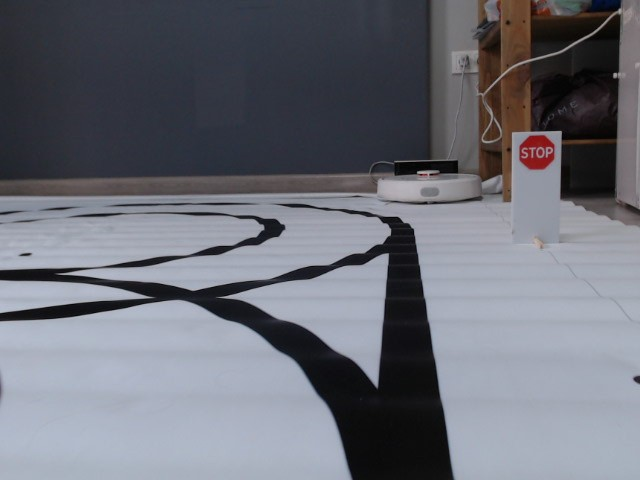Stop: (518, 135, 555, 171)
